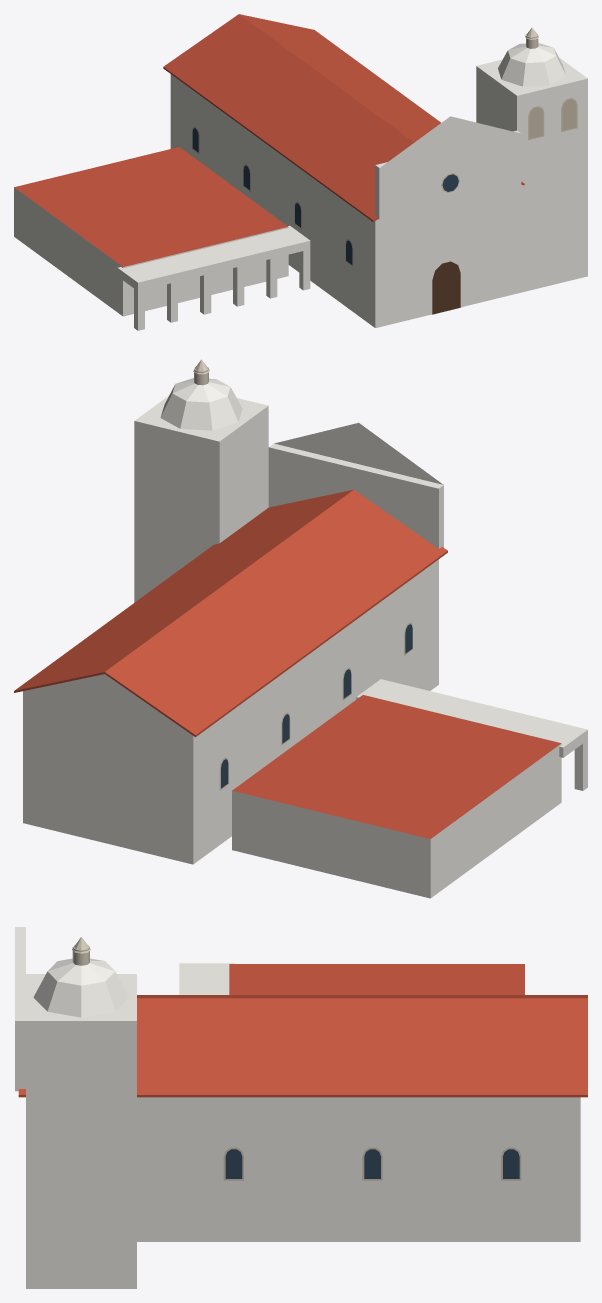
File: mission_espagnole.glb
3 renders of one model, top to bottom at view 1: azimuth 30°, elevation 25°; view 2: azimuth 150°, elevation 25°; view 3: azimuth 270°, elevation 25°, orthographic. The views are drawn at different scales.
Visible parts, largest first — view 1: mission_espagnole; view 2: mission_espagnole; view 3: mission_espagnole.
Boxes of the visible parts, x1=… form: mission_espagnole: x1=14, y1=14, x2=587, y2=330; mission_espagnole: x1=14, y1=359, x2=587, y2=898; mission_espagnole: x1=15, y1=927, x2=587, y2=1288.
Size of the model in its own units: 33.3 by 19.63 by 31.05.
1 material, 1 textured.
